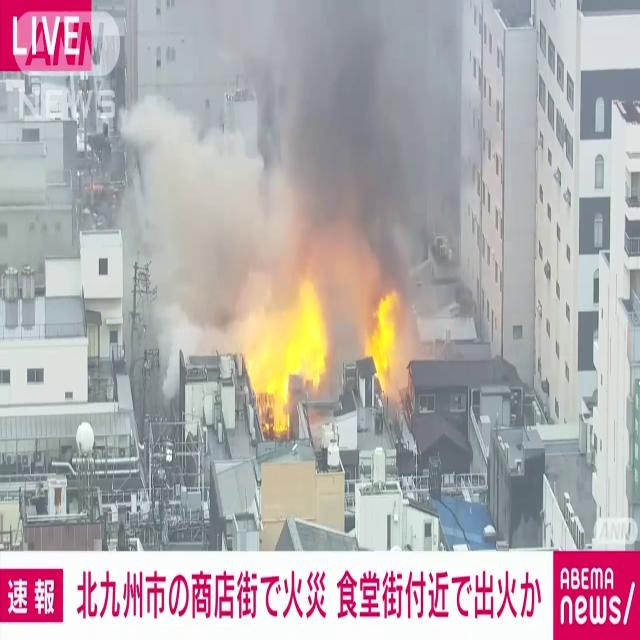Fire: (243, 274, 329, 434), (365, 283, 405, 397)
Smoke: (132, 1, 466, 322)
